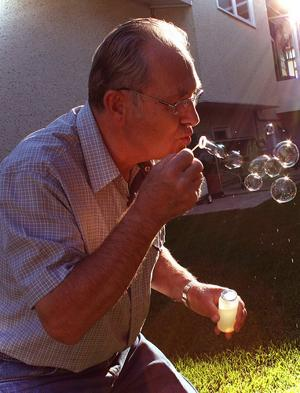person: (2, 16, 249, 393)
